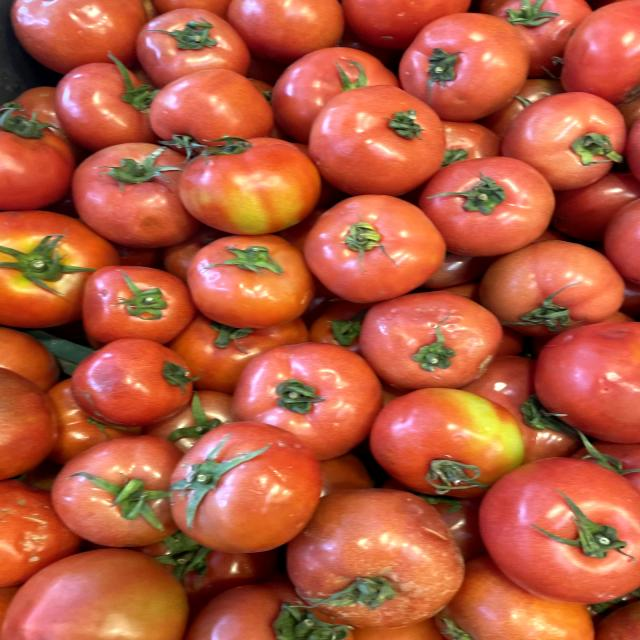tomato: (275, 478, 476, 630), (473, 455, 640, 612), (220, 326, 409, 461), (155, 413, 329, 556), (50, 131, 218, 250), (295, 181, 456, 300), (172, 126, 332, 238), (391, 12, 540, 128), (472, 229, 628, 337), (307, 85, 456, 198), (420, 144, 560, 264), (362, 288, 507, 391), (179, 230, 321, 325)
